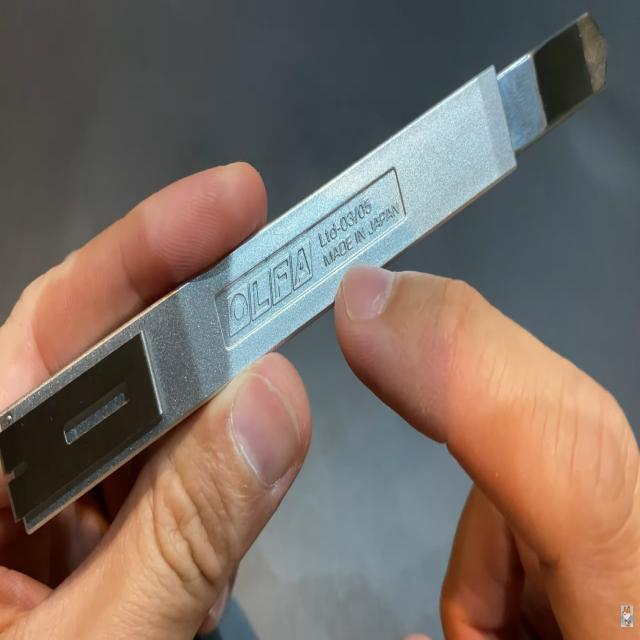cutter: (0, 3, 640, 640)
